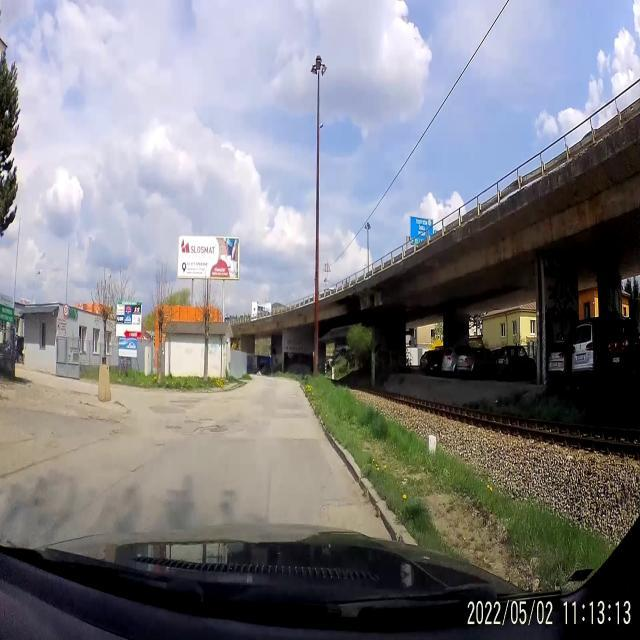Pothole: (188, 413, 228, 442), (162, 414, 182, 438), (112, 398, 130, 417), (78, 414, 112, 423), (107, 426, 121, 442), (128, 461, 142, 476), (64, 389, 96, 395), (73, 401, 100, 408)
